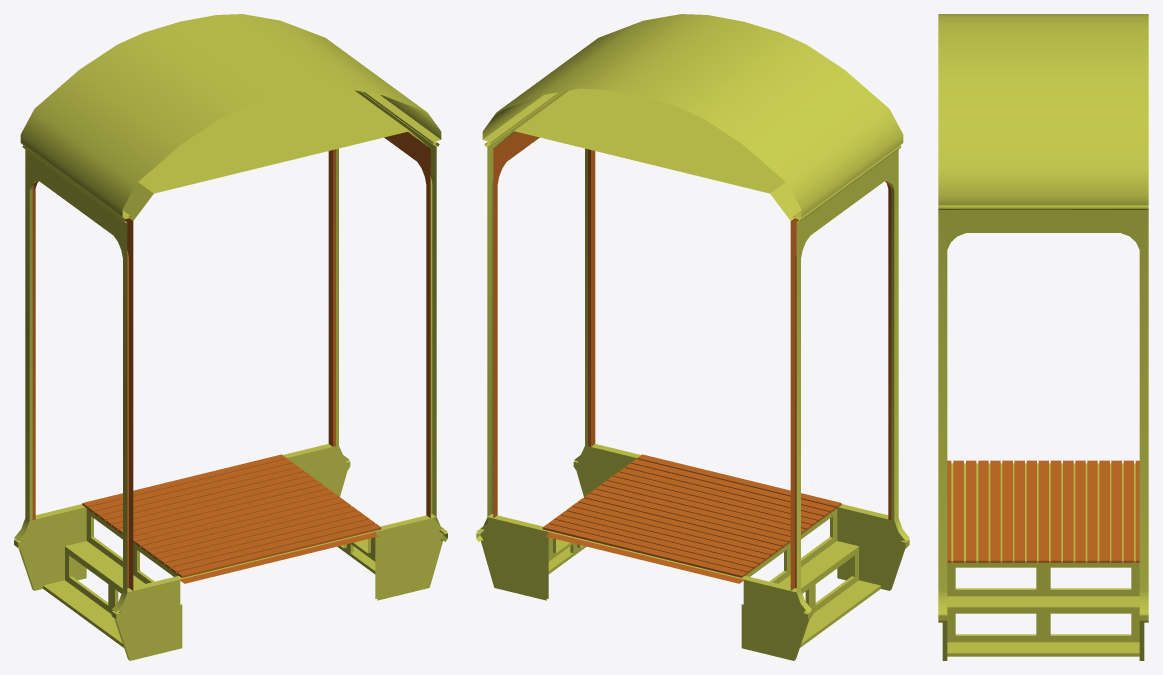
File: vagon enter double lod0.FBX
The picture shows the model from 3 angles, left to right: view 1: azimuth 30°, elevation 25°; view 2: azimuth 150°, elevation 25°; view 3: azimuth 270°, elevation 25°; orthographic projection. The views are drawn at different scales.
Parts seen in each view (by area): view 1: Object1191; view 2: Object1191; view 3: Object1191.
Part boxes in pixels (x1=…): Object1191: x1=14, y1=14, x2=447, y2=660; Object1191: x1=476, y1=14, x2=909, y2=660; Object1191: x1=938, y1=14, x2=1148, y2=660.
Bounding box in the file's own units: 2.25 × 3.44 × 1.2.
